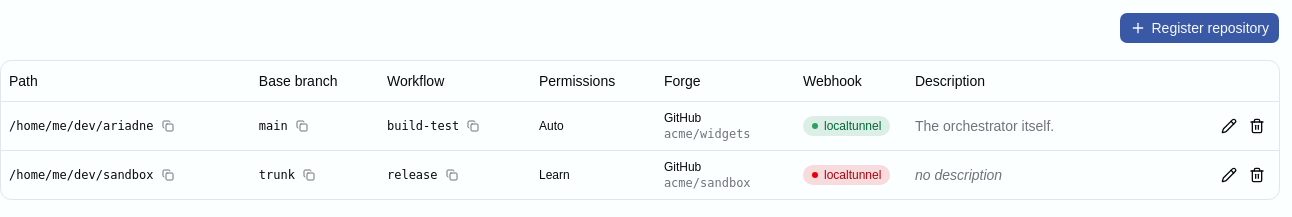
RepositoriesPage › shows localtunnel green while the hook is live, and red with the error when it is not
This screenshot has width=1292, height=217.
Expected: the picture named "localtunnel: working" reads "localtunnel", [824,118,881,132]
Hover over the picture named "localtunnel: working": point(847, 126) [803,116,890,136]
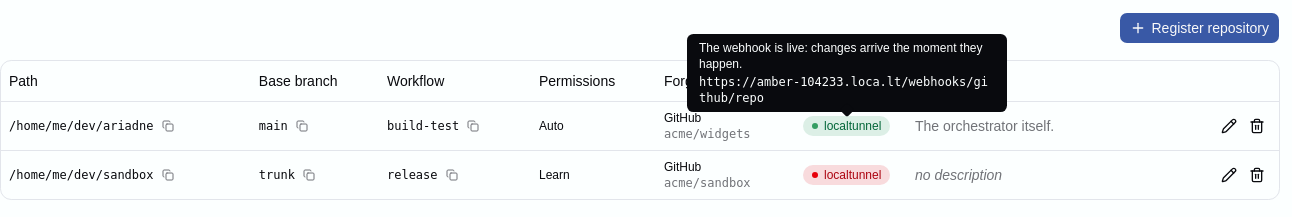
Expected: the text "https://amber-104233.loca.lt/webhooks/github/repo" is shown, [699,74,995,106]
Hover over the picture named "localtunnel: not working": point(847, 174) [803,164,890,184]
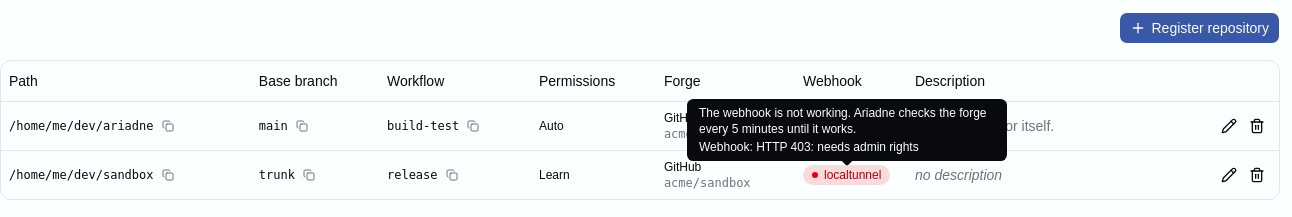
Expected: the text "Webhook: HTTP 403: needs admin rights" is shown, [699,140,919,154]
